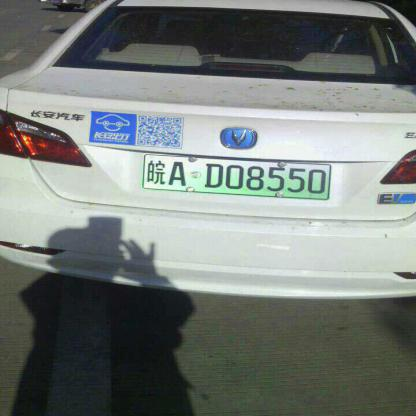lp: (140, 155, 329, 200)
